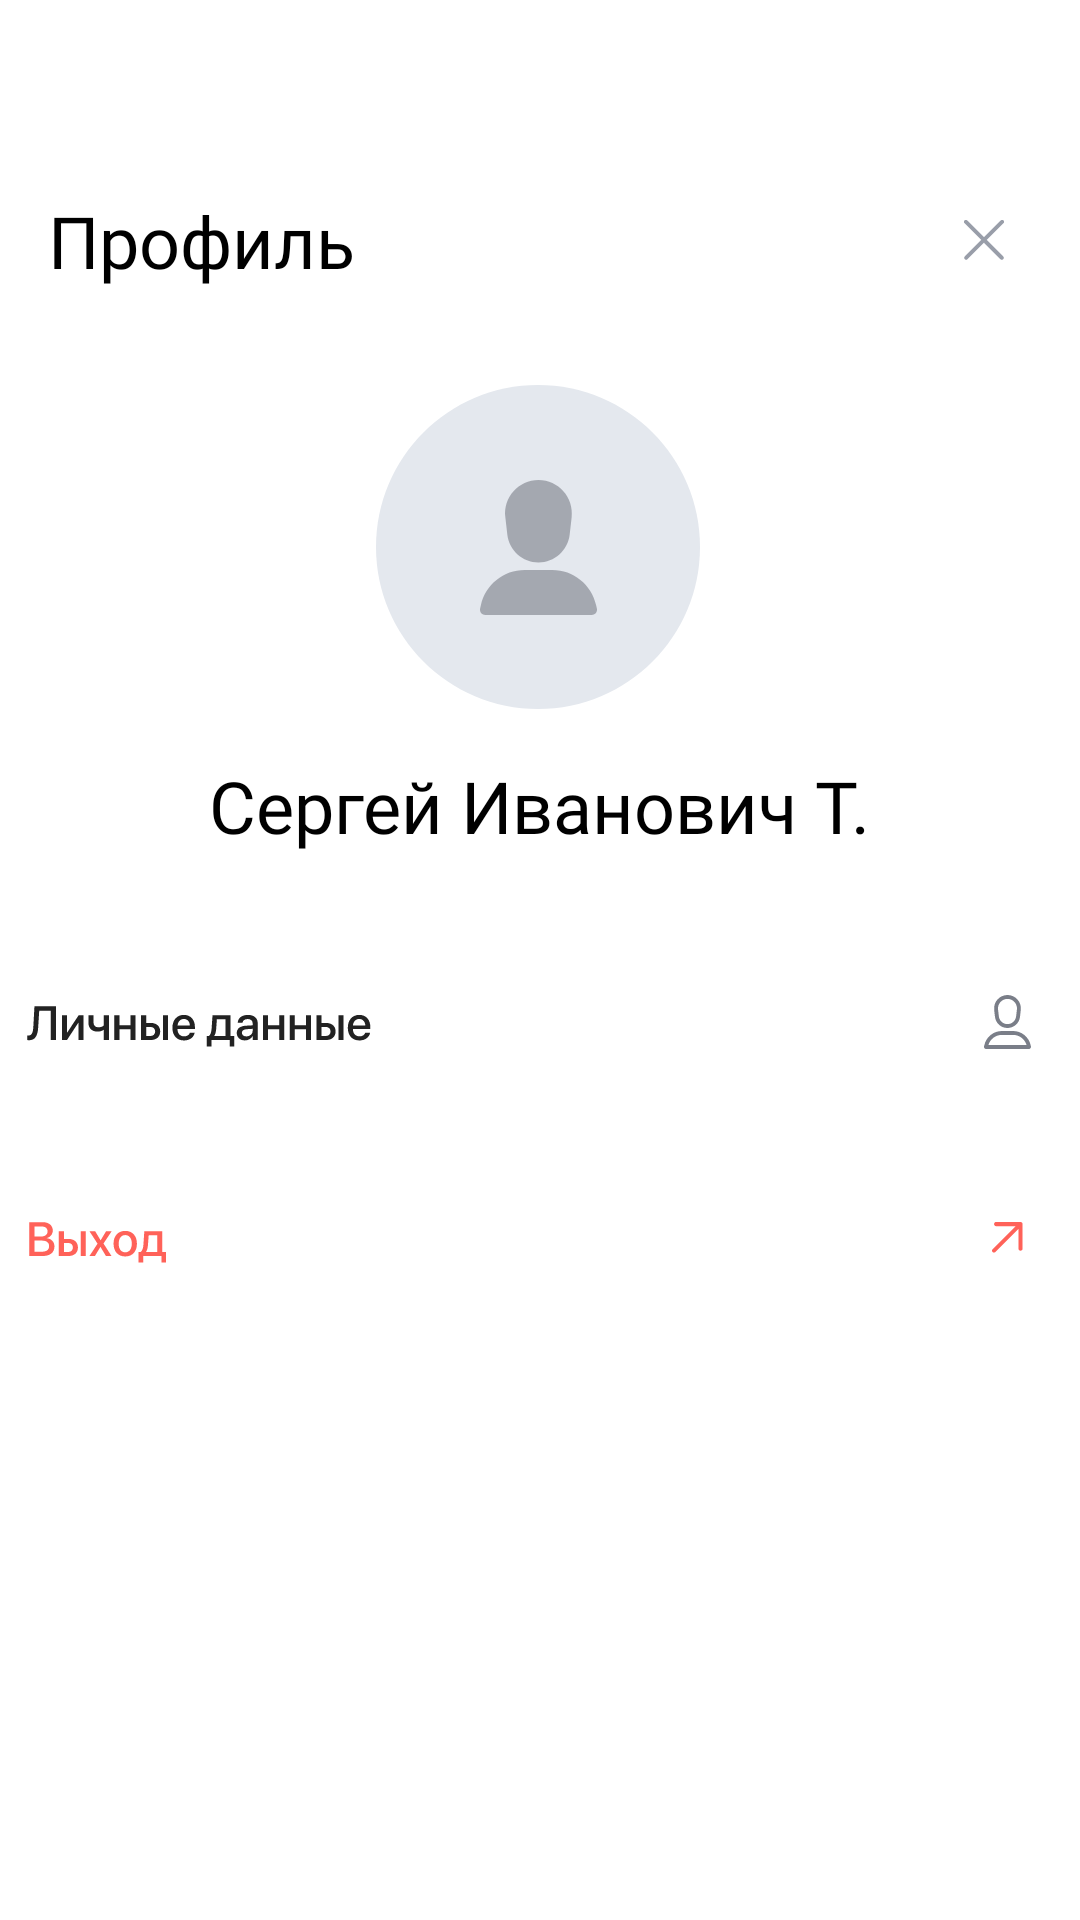

Icons on this 1080px x 1920px Android screen, each with its box as (x1, y1, x2, y2):
close: (964, 220, 1004, 260)
